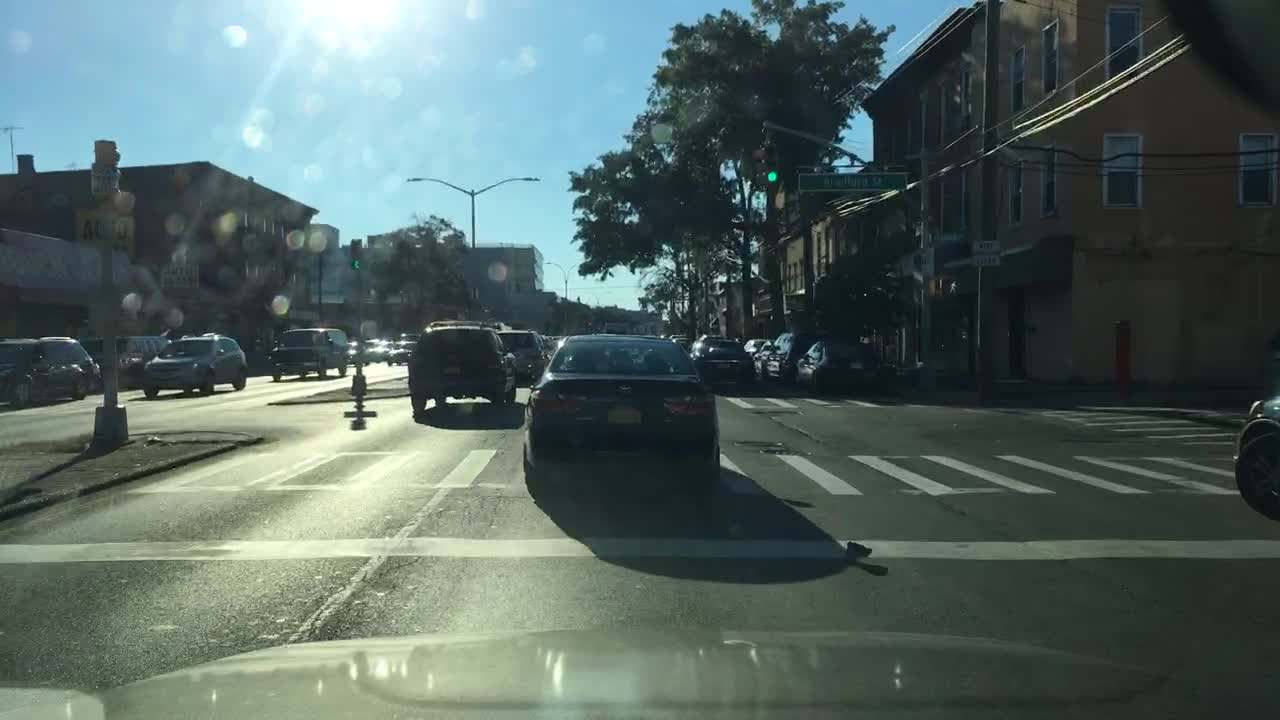car: (521, 331, 722, 505), (406, 319, 521, 417), (141, 329, 248, 398), (0, 337, 101, 404), (1234, 388, 1278, 521), (791, 337, 881, 394), (79, 334, 170, 387), (267, 325, 350, 381), (685, 333, 754, 390), (490, 327, 552, 389), (765, 329, 818, 382), (96, 349, 145, 384), (751, 337, 779, 376), (340, 337, 370, 365), (361, 337, 389, 365), (384, 340, 412, 365), (742, 337, 773, 356), (396, 331, 419, 349), (539, 334, 558, 354), (671, 334, 694, 350), (548, 334, 566, 346), (669, 332, 686, 341)
traffic light: (761, 140, 783, 191), (927, 273, 959, 300), (350, 235, 364, 272)
traffic sign: (75, 207, 137, 261), (796, 165, 911, 193), (90, 159, 122, 195), (160, 261, 200, 286), (971, 236, 1003, 266), (916, 247, 936, 279)
